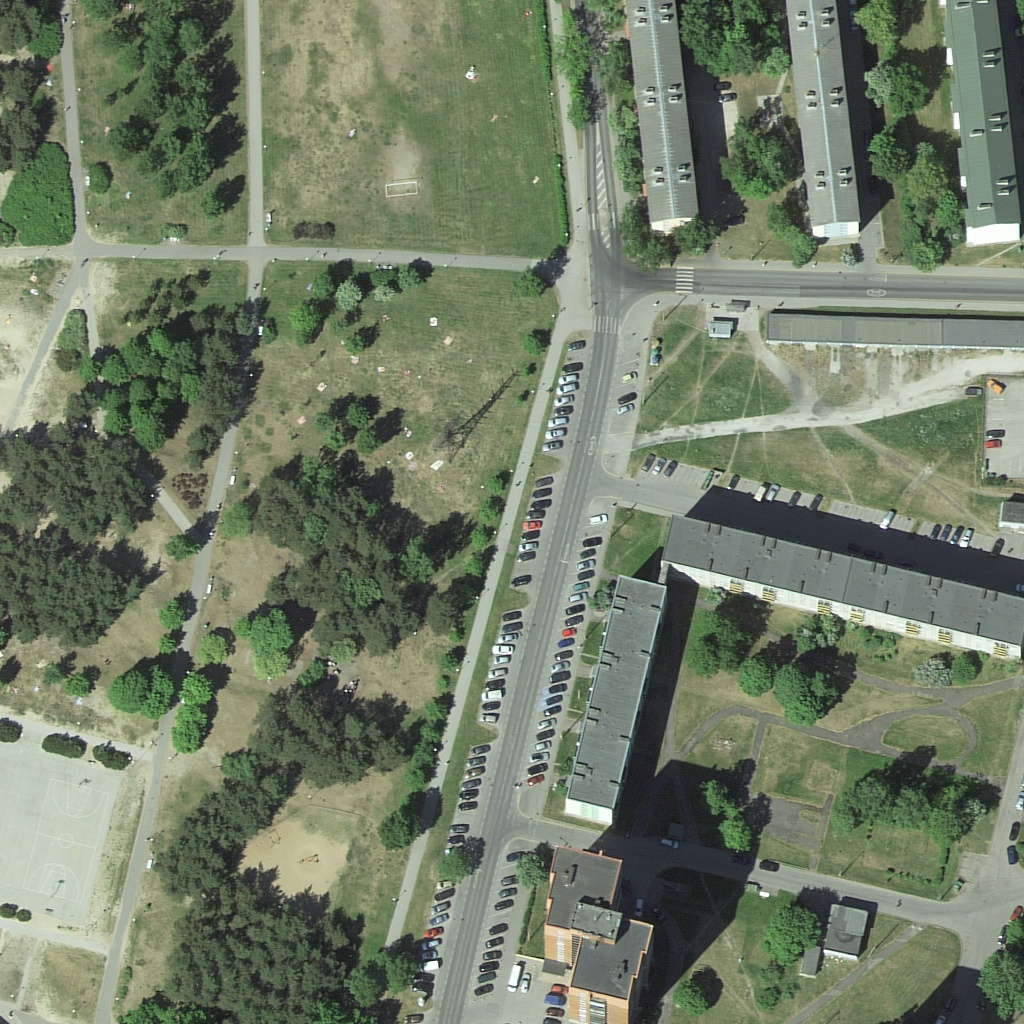building: (661, 512, 1024, 662), (566, 581, 666, 823), (547, 845, 659, 1024), (937, 6, 1018, 244), (625, 2, 709, 231), (782, 6, 864, 237)
